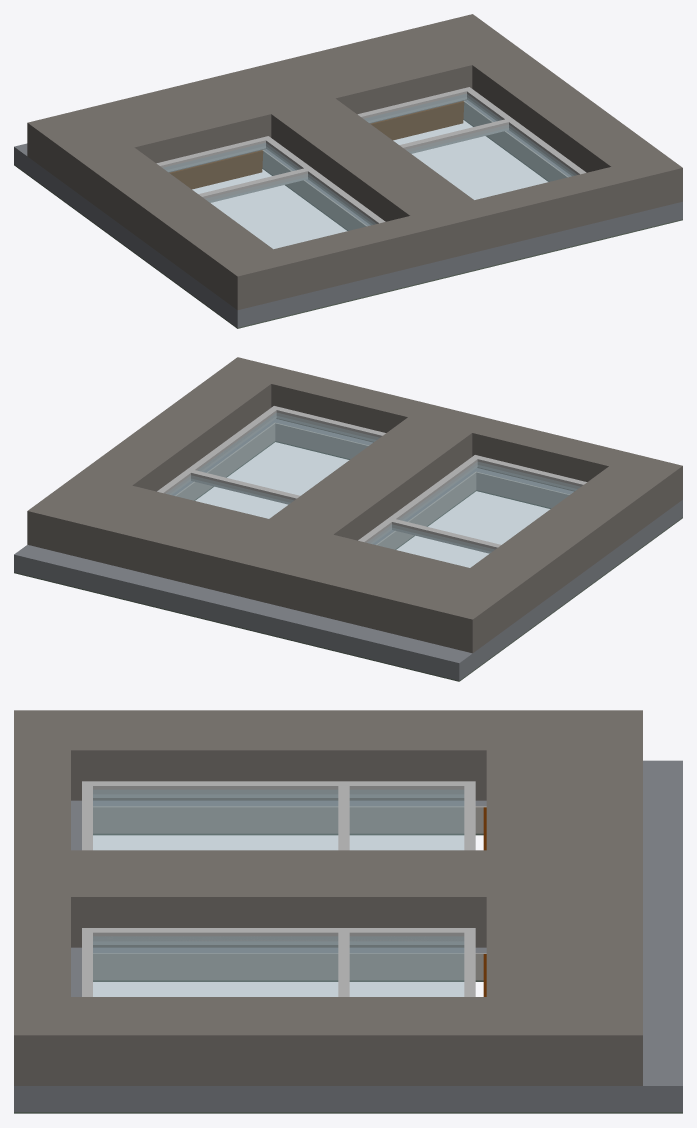
The model's file is two_windows.glb.
3 views of the same model, one above another, from view 1: azimuth 30°, elevation 25°; view 2: azimuth 150°, elevation 25°; view 3: azimuth 270°, elevation 25° (orthographic). The views are drawn at different scales.
Parts seen in each view (by area): view 1: module; view 2: module; view 3: module.
Boxes of the visible parts, x1,y1,x2,y2 form: module: [14, 14, 682, 328]; module: [14, 357, 682, 681]; module: [14, 710, 682, 1113].
Bounding box in the file's own units: 3.45 × 0.415 × 3.
